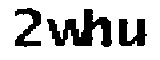2: (11, 3, 47, 49)
h: (83, 6, 114, 48)
u: (119, 16, 149, 48)
w: (45, 14, 84, 50)
